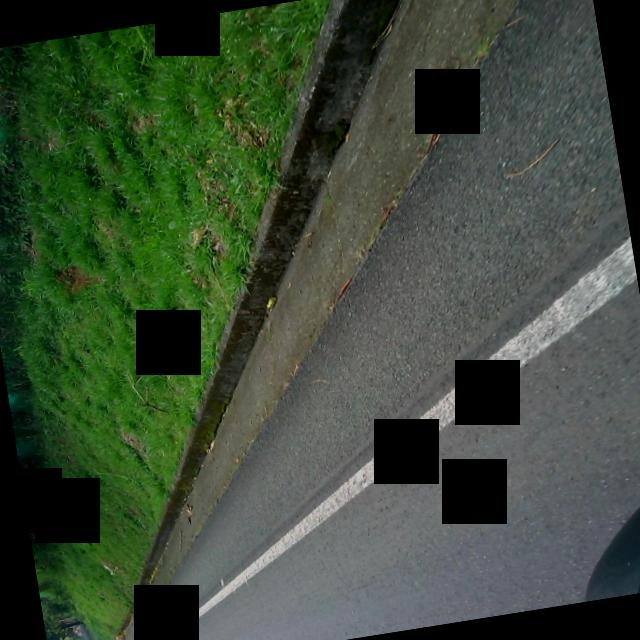DITCH: (0, 0, 640, 640), (9, 0, 640, 608)
